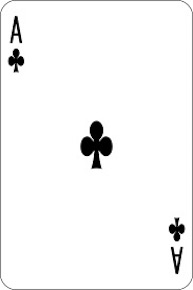AceOfClubs: (2, 3, 193, 287)
